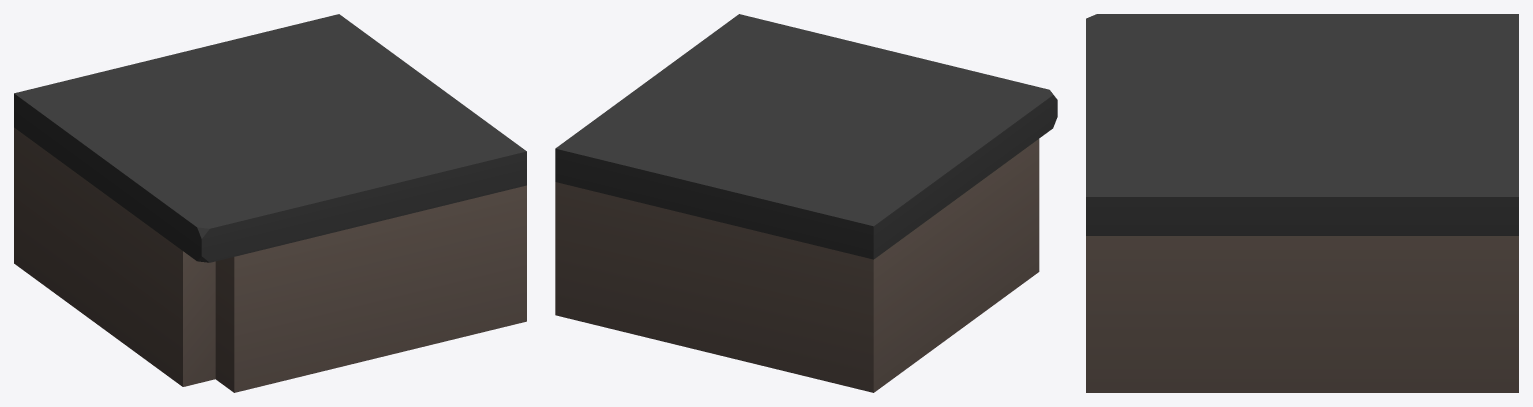
The model's file is kitchencounter_innercorner_styleB.obj.
3 renders of one model, left to right at view 1: azimuth 30°, elevation 25°; view 2: azimuth 150°, elevation 25°; view 3: azimuth 270°, elevation 25°, orthographic. The views are drawn at different scales.
Parts seen in each view (by area): view 1: kitchencounter_innercorner_styleB_Cube.014; view 2: kitchencounter_innercorner_styleB_Cube.014; view 3: kitchencounter_innercorner_styleB_Cube.014.
Part boxes in pixels (<box>): kitchencounter_innercorner_styleB_Cube.014: <box>14,14,526,392</box>; kitchencounter_innercorner_styleB_Cube.014: <box>555,14,1057,392</box>; kitchencounter_innercorner_styleB_Cube.014: <box>1086,14,1518,392</box>.
Bounding box in the file's own units: 2 × 1 × 2.
1 material, 1 textured.
